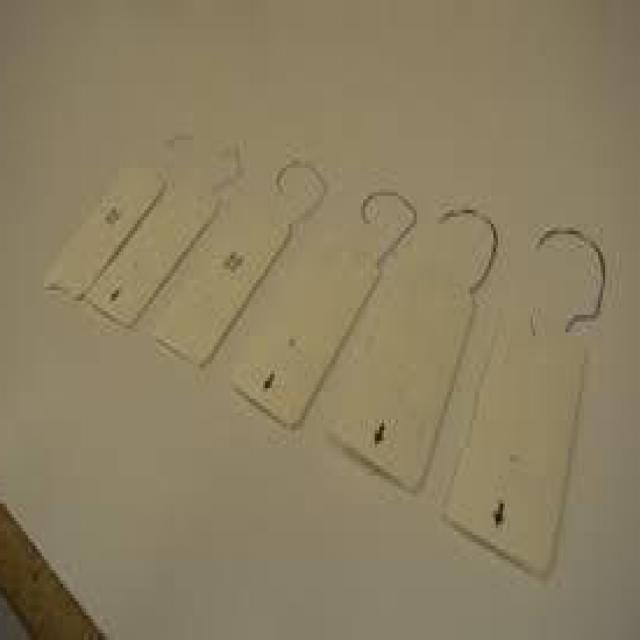Needle: (530, 220, 610, 284), (432, 203, 500, 259), (272, 154, 333, 206), (356, 186, 419, 230)
